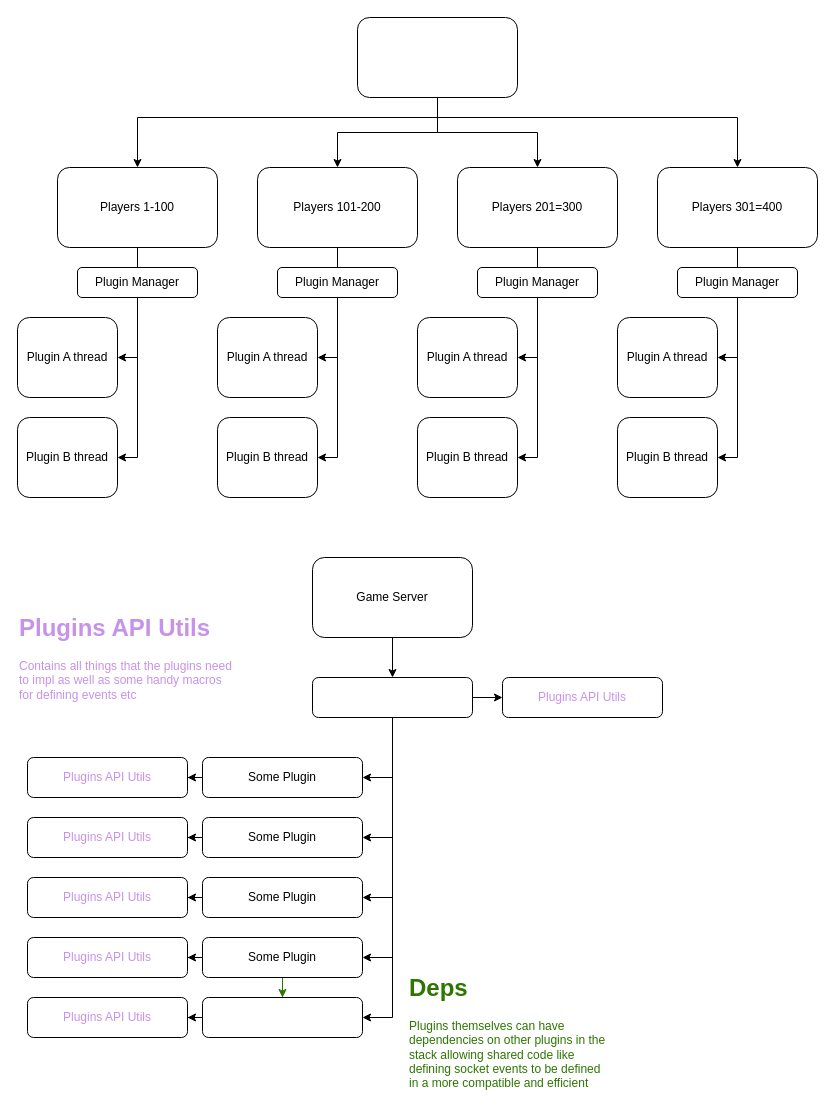
The diagram is 835 pixels wide and 1108 high, and some of its shapes have lost their labels. Here are the shapes that lost their labels. From the top down, the centre of each, then its label:
At [437,57]: "Main Thread".
At [392,697]: "Plugin Manager/API".
At [282,1017]: "Horizon Link Plugin".
